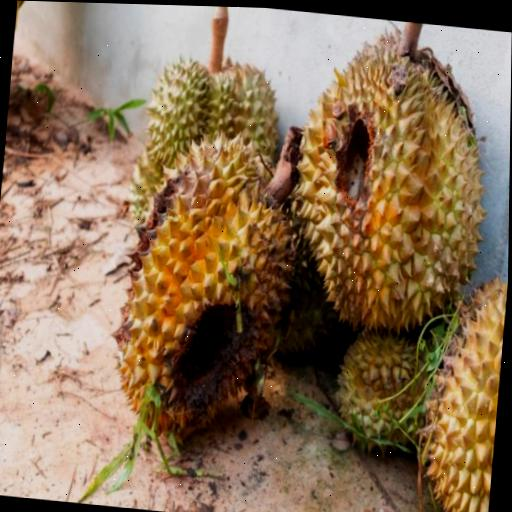rot: (75, 120, 337, 467), (271, 11, 512, 374)
